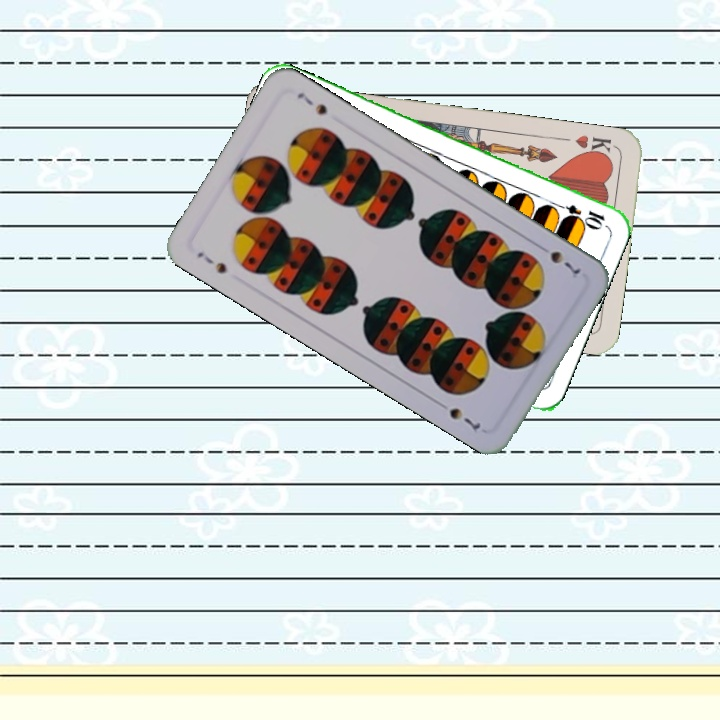E10: (549, 198, 608, 229)
HK: (571, 131, 618, 161)
S7: (533, 240, 584, 278), (192, 247, 230, 277)
